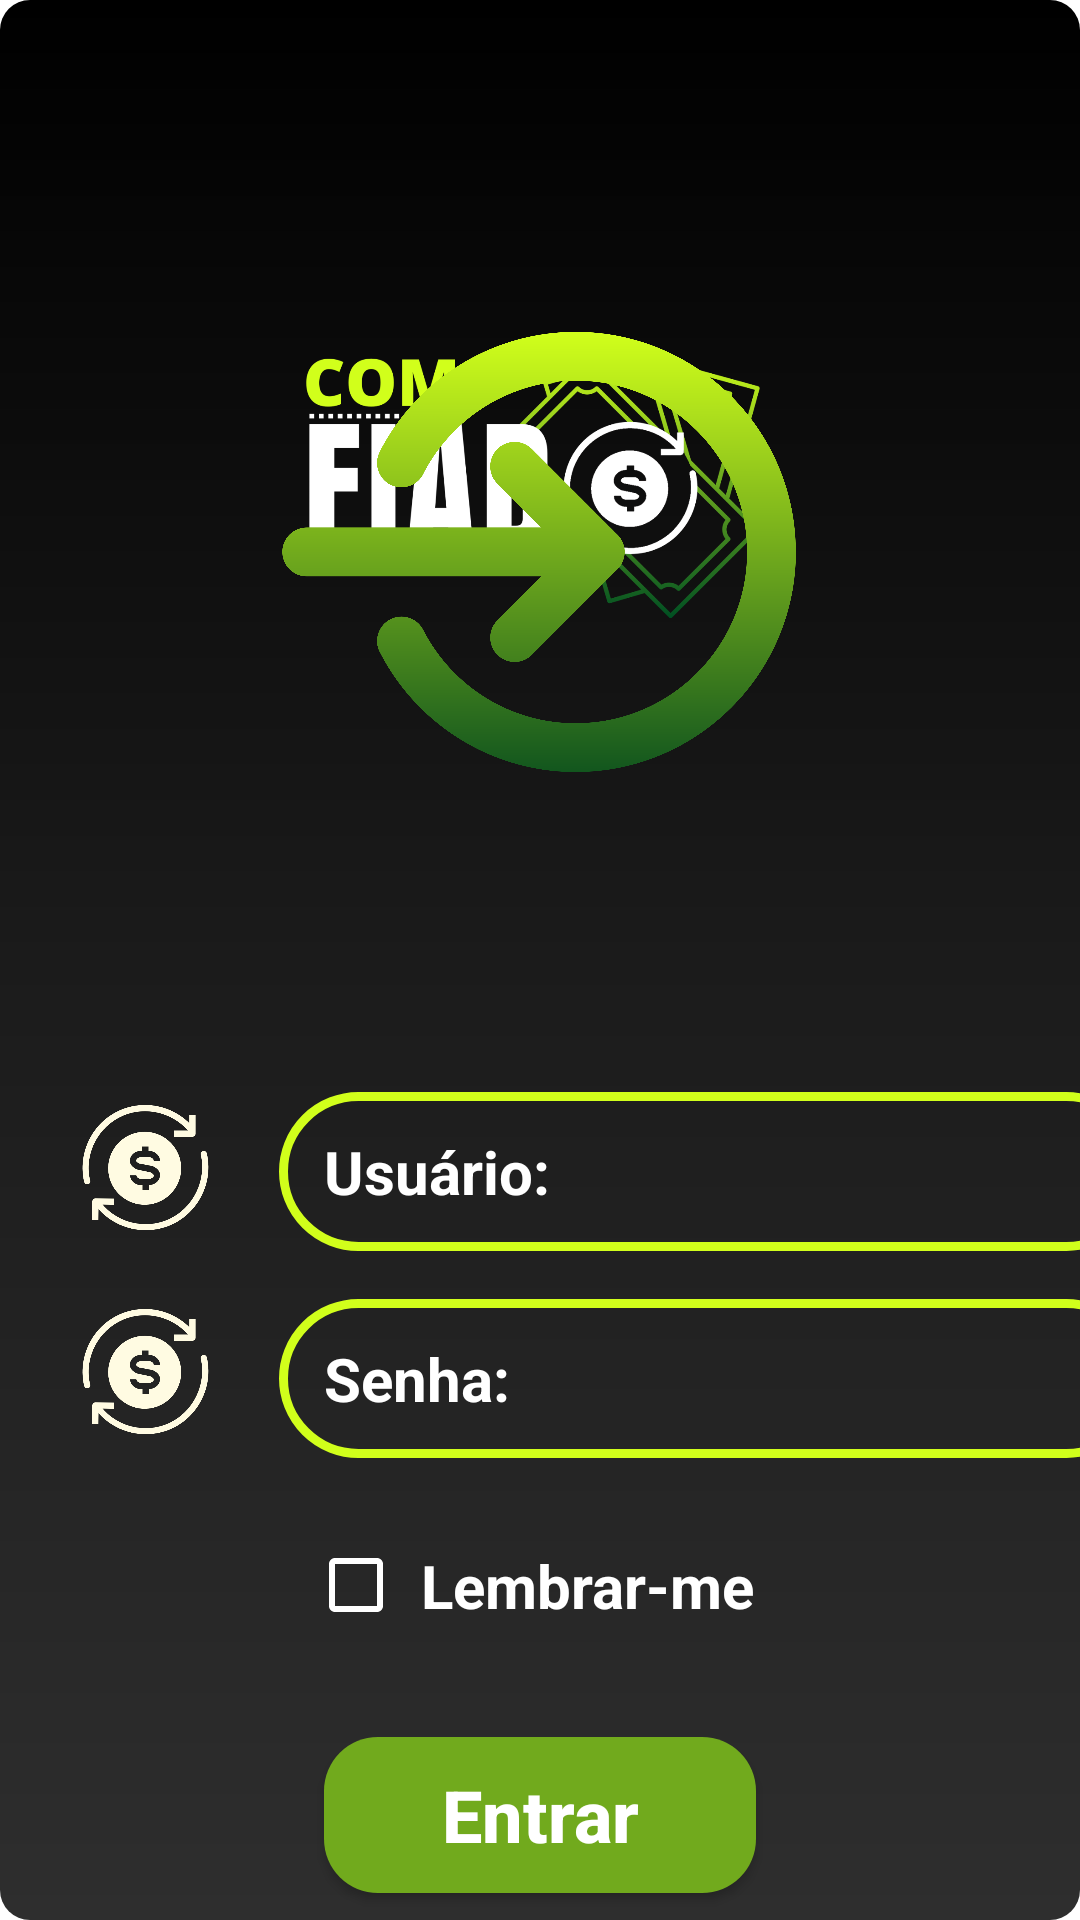

Icons on this 1080x1920 Android screen, each with its box as box(x1, y1, x2, y2):
cifrao: box(82, 1105, 209, 1230), box(82, 1309, 209, 1434)
